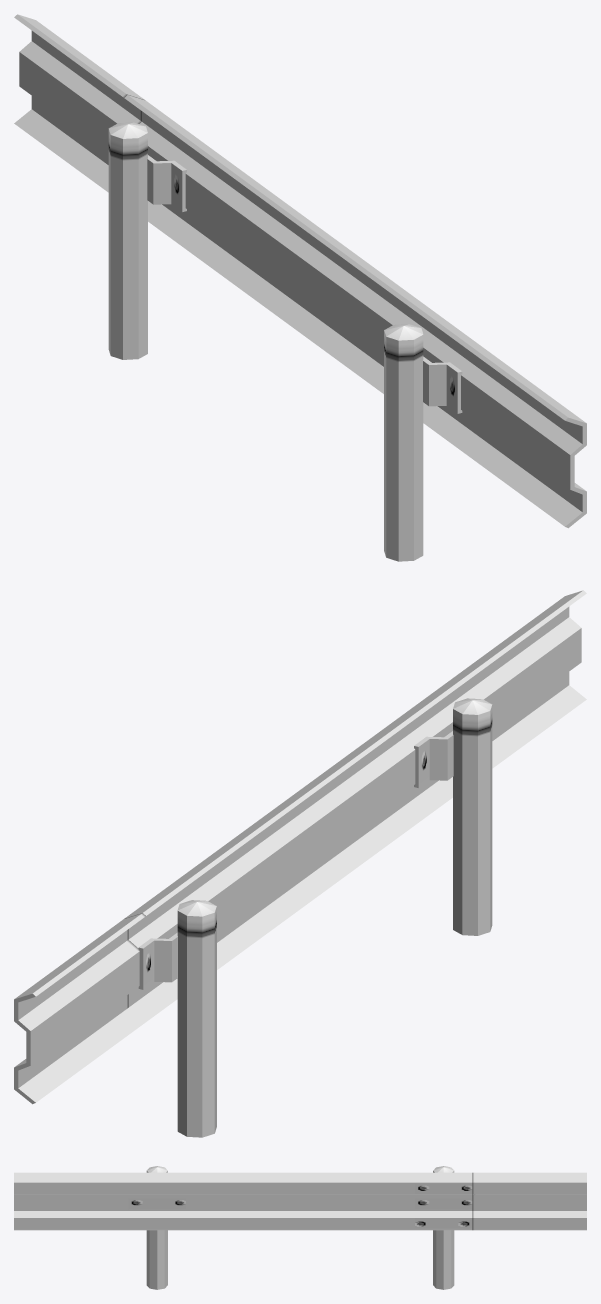
Rendered from guardrail.fbx.
The picture shows the model from 3 angles, top to bottom: view 1: azimuth 30°, elevation 25°; view 2: azimuth 150°, elevation 25°; view 3: azimuth 270°, elevation 25°; orthographic projection. The views are drawn at different scales.
Parts seen in each view (by area): view 1: Cube; view 2: Cube; view 3: Cube.
Part boxes in pixels (x1,y1,x2,y2): Cube: (14, 14, 586, 561); Cube: (14, 590, 586, 1137); Cube: (14, 1166, 586, 1289).
Size of the model in its own units: 66.09 by 230 by 1000.
Materials: 1 (1 with a texture image).
